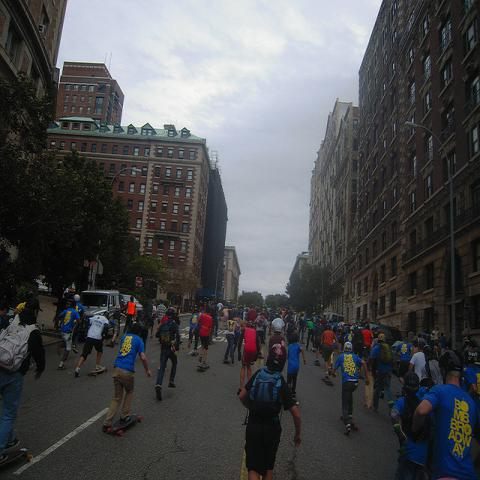car: (80, 290, 121, 328), (378, 324, 402, 346), (119, 294, 143, 314)
